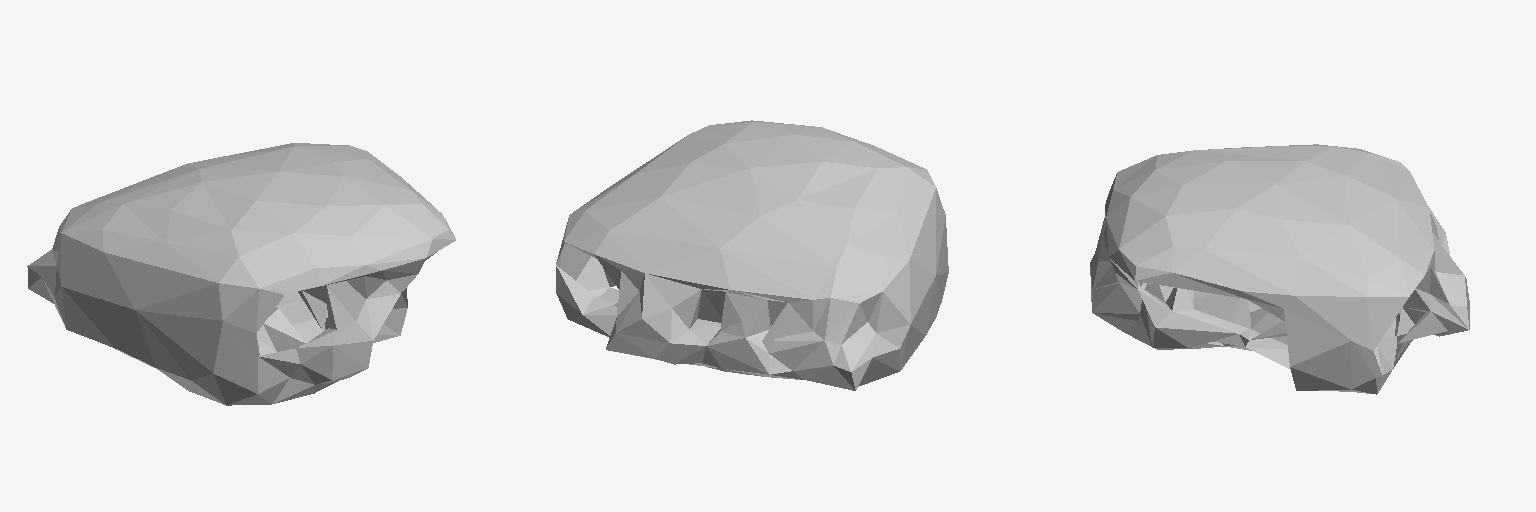
The model's file is sim_ecub_1-1_l_hand_palm.obj.
3 views of the same model, side by side, from view 1: azimuth 30°, elevation 25°; view 2: azimuth 150°, elevation 25°; view 3: azimuth 270°, elevation 25° (orthographic).
Size of the model in its own units: 102 by 46.97 by 99.37.